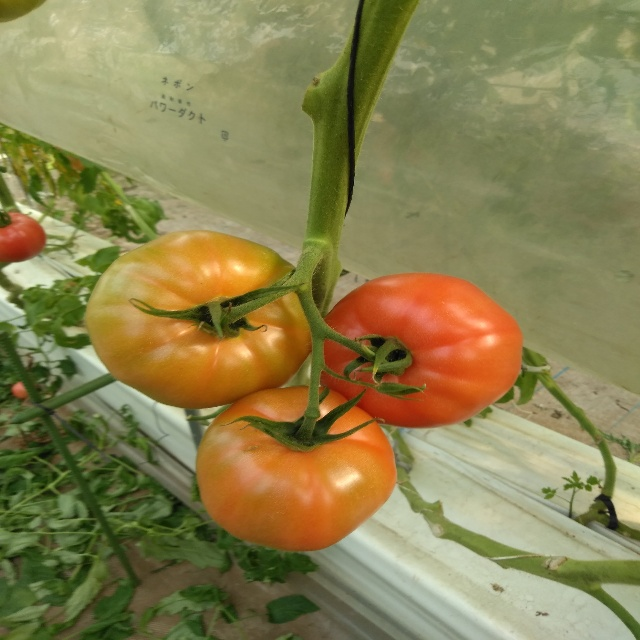b_fully_ripened: (315, 272, 524, 429)
b_half_ripened: (83, 229, 316, 409), (196, 385, 398, 551)
